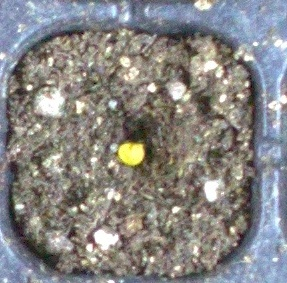chilli seed: (118, 142, 145, 165)
